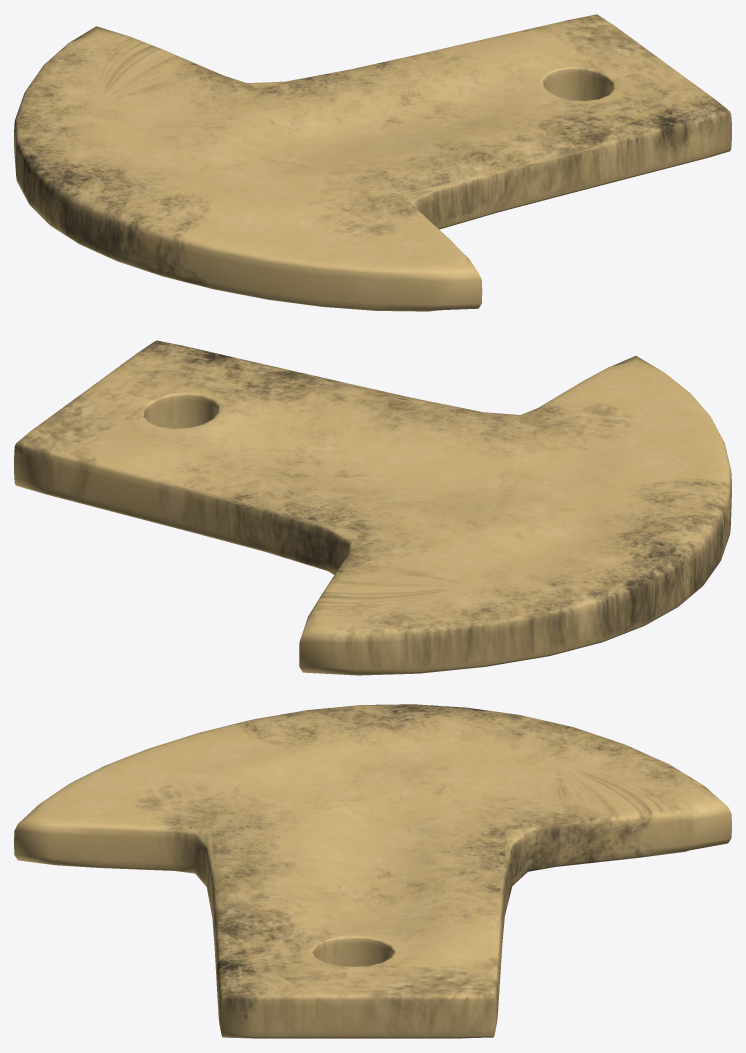
File: Hachaver.fbx
3 views of the same model, one above another, from view 1: azimuth 30°, elevation 25°; view 2: azimuth 150°, elevation 25°; view 3: azimuth 270°, elevation 25° (orthographic). The views are drawn at different scales.
Parts seen in each view (by area): view 1: Hacha; view 2: Hacha; view 3: Hacha.
Part boxes in pixels (box(x1,y1,x2,y2)): Hacha: box(14, 14, 731, 311); Hacha: box(14, 340, 731, 675); Hacha: box(14, 704, 731, 1038).
Bounding box in the file's own units: 35.03 × 36.19 × 2.8.
1 material, 1 textured.
